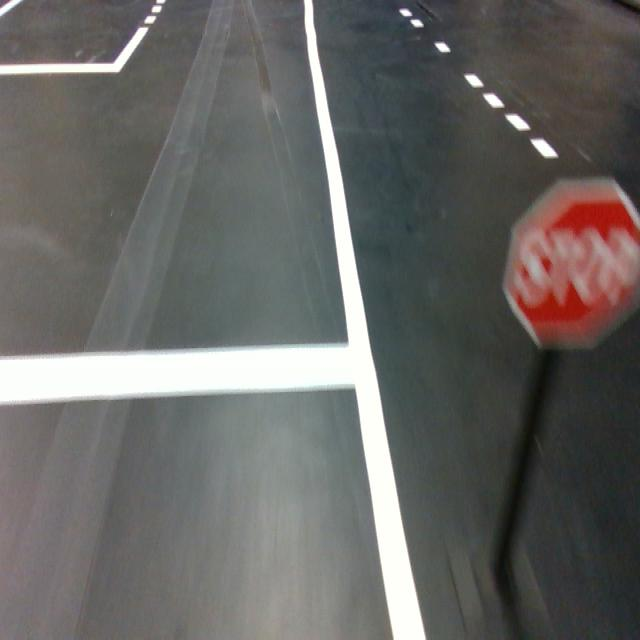stop-sign: (500, 174, 640, 353)
